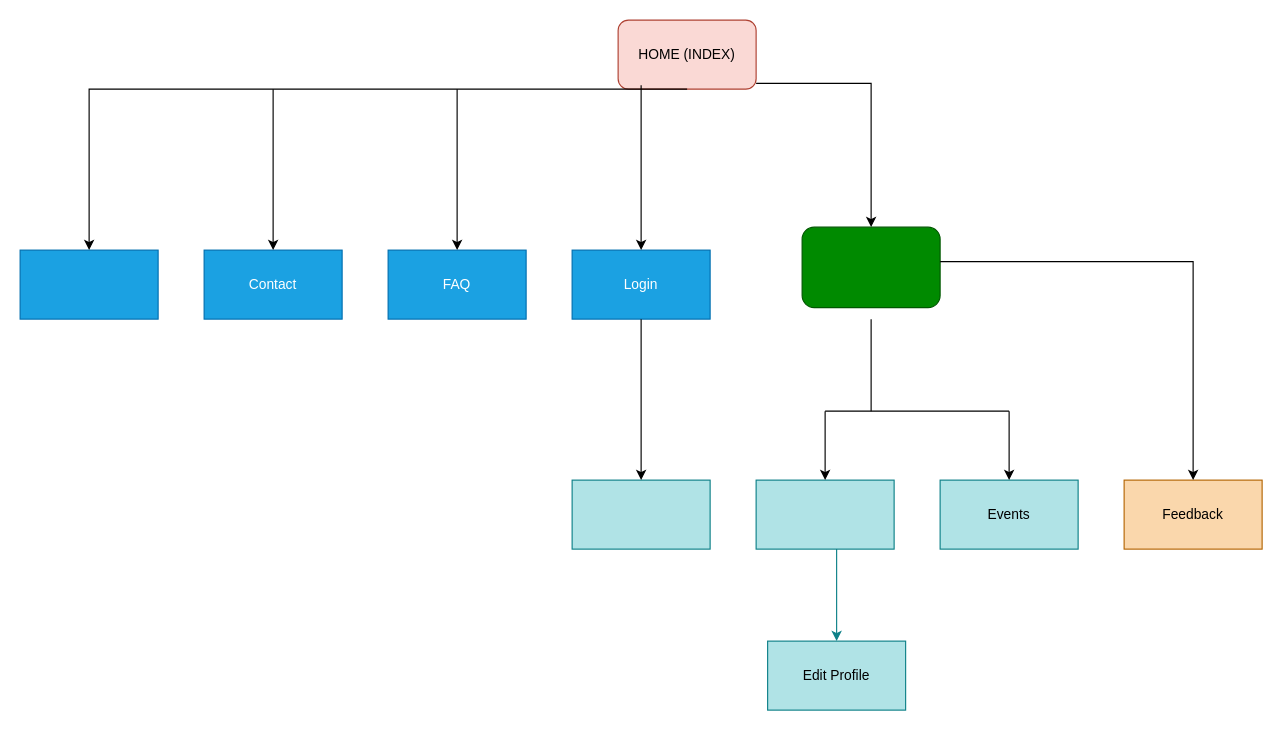
Image size: 1282x730. Some labels were removed from this diagram. Here are the shapes that lost their labels. From the top down, the box of each, then its label:
(19, 249, 158, 319): About
(801, 226, 940, 308): Dashboard (After Login)
(571, 479, 710, 549): Register
(755, 479, 894, 549): Profile
